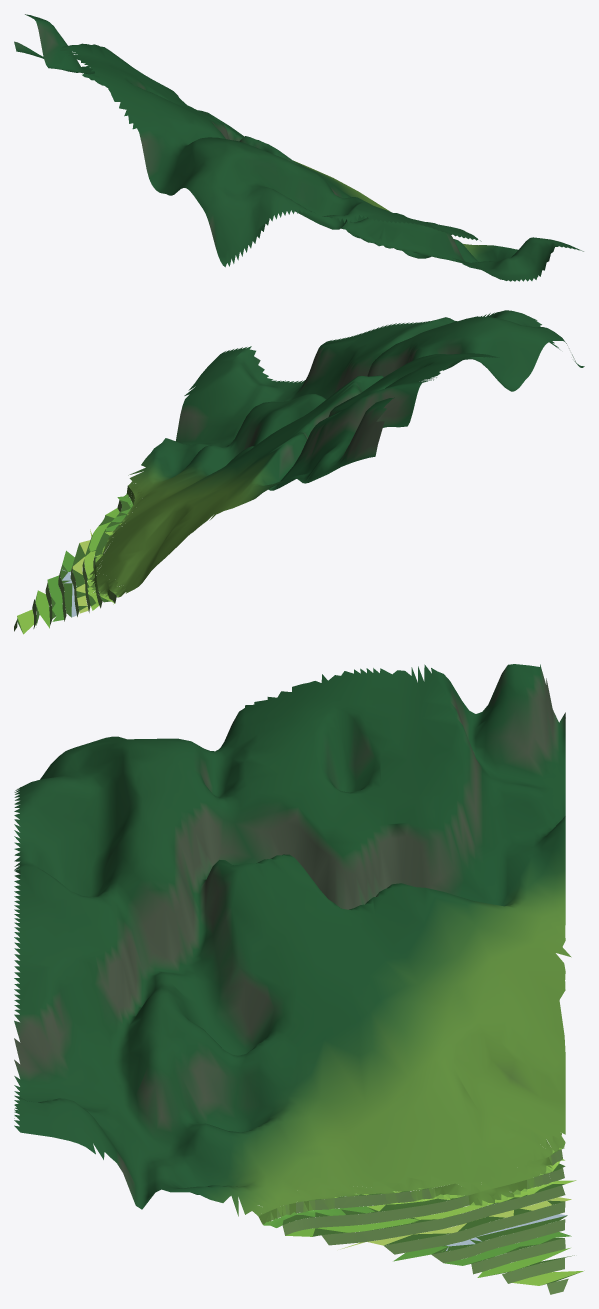
File: payo_land_x0_y4_lod1.glb
3 views of the same model, one above another, from view 1: azimuth 30°, elevation 25°; view 2: azimuth 150°, elevation 25°; view 3: azimuth 270°, elevation 25° (orthographic). The views are drawn at different scales.
Visible parts, largest first — view 1: payo_land_x0_y4; view 2: payo_land_x0_y4; view 3: payo_land_x0_y4.
Boxes of the visible parts, box(x1,y1,x2,y2) form: payo_land_x0_y4: box(14, 14, 583, 281); payo_land_x0_y4: box(14, 310, 584, 634); payo_land_x0_y4: box(14, 664, 584, 1294).
Size of the model in its own units: 268 by 206 by 267.
